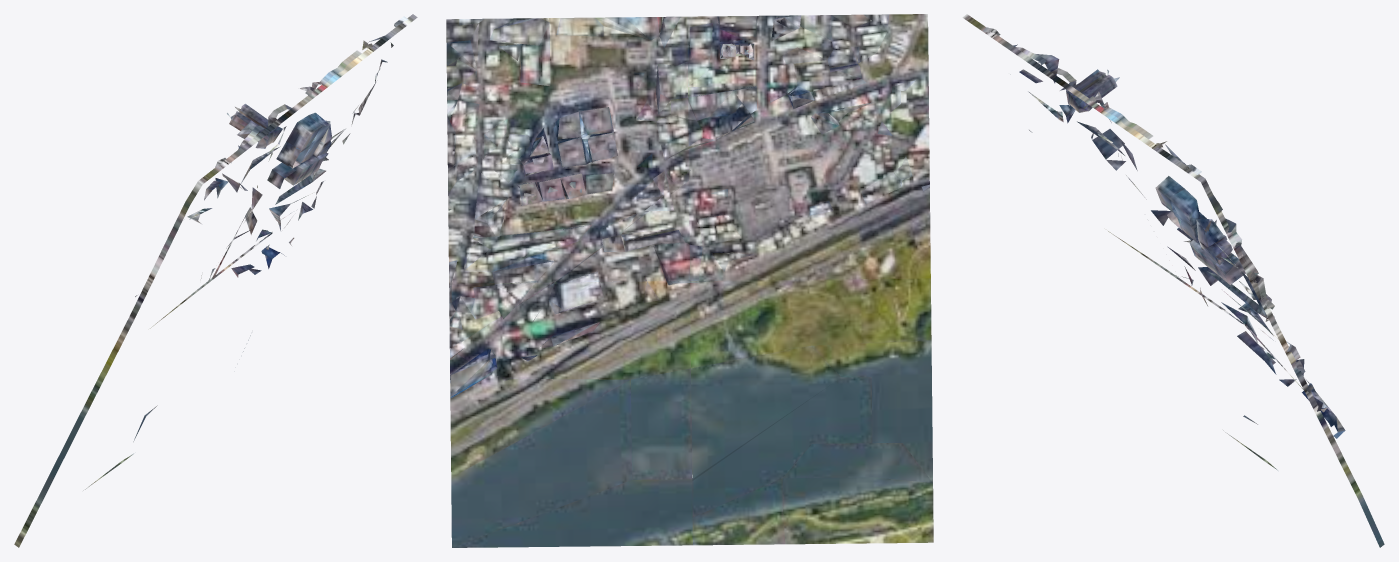
3 views of the same model, side by side, from view 1: azimuth 30°, elevation 25°; view 2: azimuth 150°, elevation 25°; view 3: azimuth 270°, elevation 25° (orthographic). The views are drawn at different scales.
Size of the model in its own units: 1222 by 1124 by 1026.
Materials: 1 (1 with a texture image).
